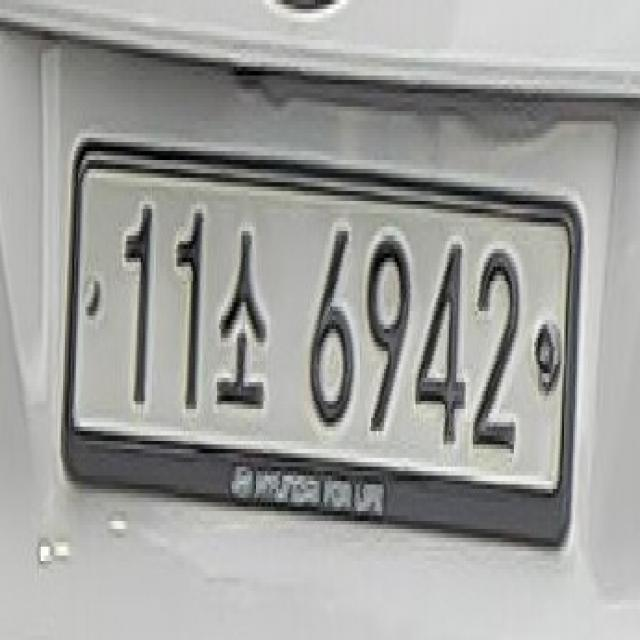1: (120, 200, 166, 420), (172, 194, 209, 410)
2: (474, 244, 530, 468)
4: (415, 232, 471, 463)
6: (306, 210, 358, 426)
9: (367, 219, 413, 462)
license_plate: (59, 141, 580, 559)
so: (217, 213, 278, 422)
